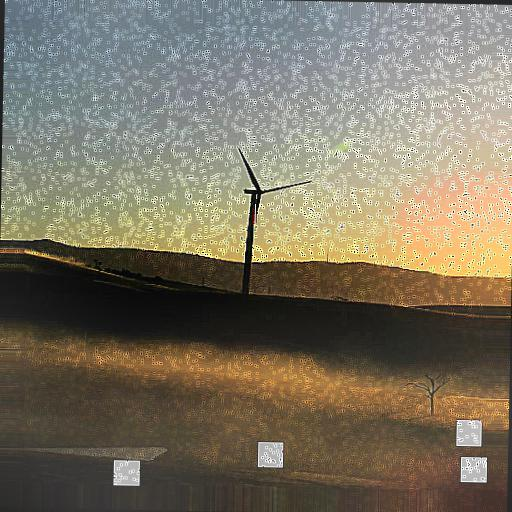wind turbine: (233, 146, 314, 298)
